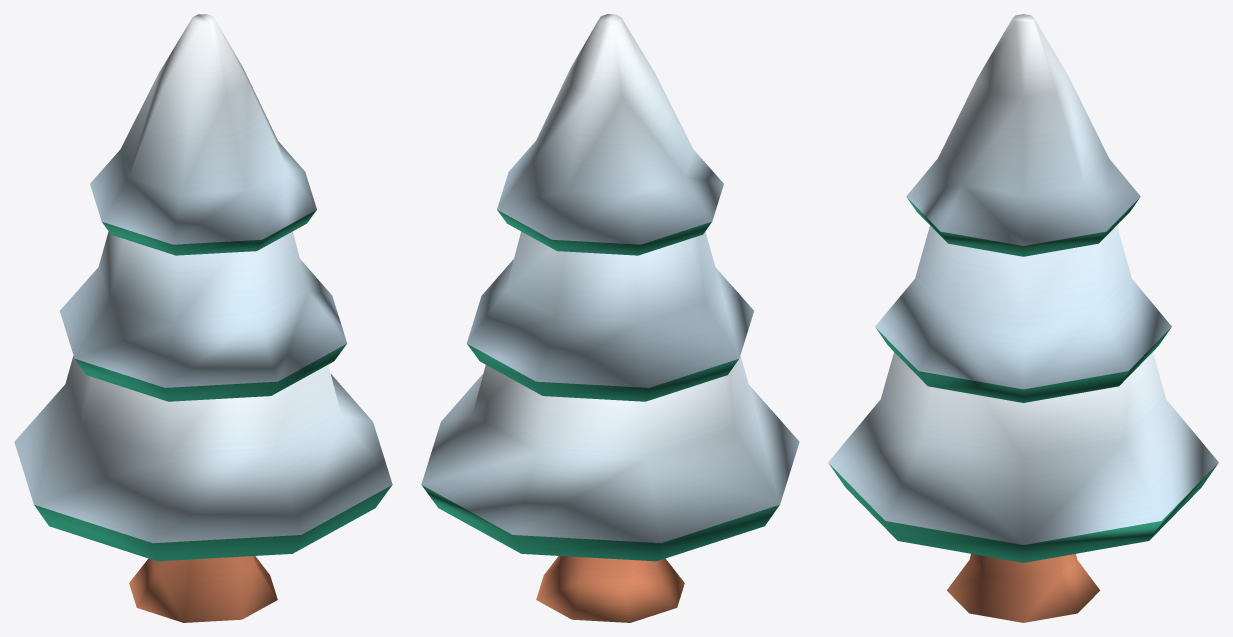
Rendered from tree-snow-c_lev3.glb.
3 views of the same model, side by side, from view 1: azimuth 30°, elevation 25°; view 2: azimuth 150°, elevation 25°; view 3: azimuth 270°, elevation 25° (orthographic).
Visible parts, largest first — view 1: tree-snow-c_lev3; view 2: tree-snow-c_lev3; view 3: tree-snow-c_lev3.
Boxes of the visible parts, left/top/right/bottom form: tree-snow-c_lev3: left=14, top=14, right=392, bottom=622; tree-snow-c_lev3: left=421, top=14, right=799, bottom=622; tree-snow-c_lev3: left=828, top=14, right=1218, bottom=622.
Size of the model in its own units: 1.19 by 1.92 by 1.19.
Materials: 1 (1 with a texture image).
